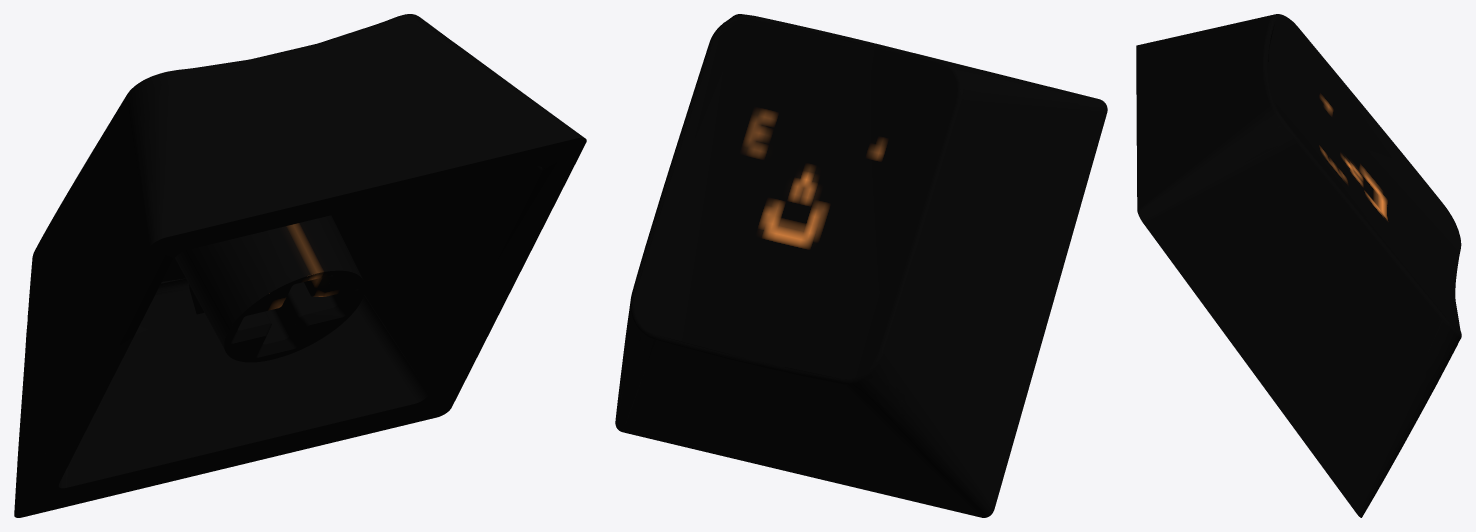
Rendered from keycap.glb.
The picture shows the model from 3 angles, left to right: view 1: azimuth 30°, elevation 25°; view 2: azimuth 150°, elevation 25°; view 3: azimuth 270°, elevation 25°; orthographic projection. The views are drawn at different scales.
Parts seen in each view (by area): view 1: 1X100KEY-R3_1_A_A002; view 2: 1X100KEY-R3_1_A_A002; view 3: 1X100KEY-R3_1_A_A002.
Part boxes in pixels (x1=…): 1X100KEY-R3_1_A_A002: x1=14, y1=14, x2=586, y2=517; 1X100KEY-R3_1_A_A002: x1=615, y1=14, x2=1107, y2=517; 1X100KEY-R3_1_A_A002: x1=1136, y1=14, x2=1461, y2=517.
Bounding box in the file's own units: 0.2808 × 0.2837 × 0.2237.
Materials: 1 (1 with a texture image).
